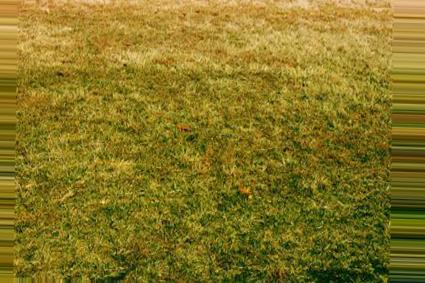patch: (48, 8, 350, 60), (63, 155, 147, 206)
